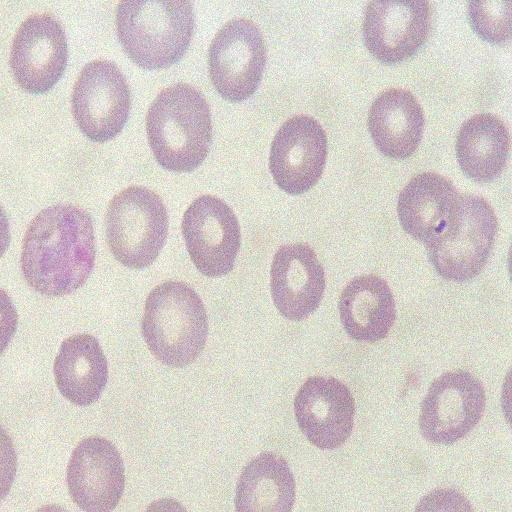Infected: (21, 203, 97, 294)
Uninfected: (145, 84, 214, 171), (141, 282, 207, 365), (106, 186, 170, 267), (71, 59, 131, 139), (431, 206, 495, 281), (418, 371, 483, 443), (181, 195, 240, 274), (208, 20, 266, 99), (268, 115, 328, 191), (10, 14, 69, 91), (293, 375, 355, 448), (398, 171, 459, 244), (270, 243, 326, 318), (66, 436, 124, 506), (363, 0, 430, 60), (366, 89, 424, 156), (53, 334, 108, 404), (338, 275, 396, 341), (455, 113, 509, 178)
